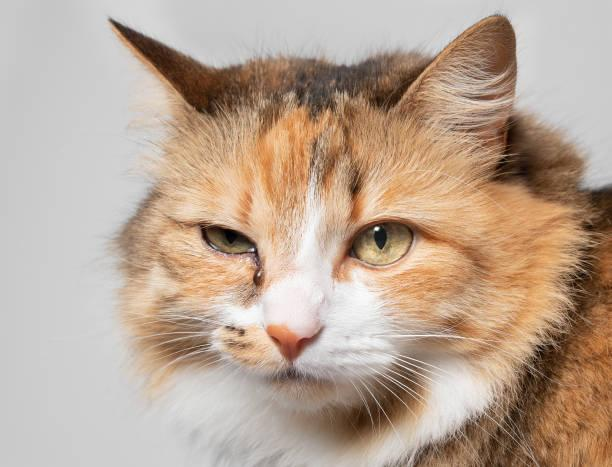eye_infection: (207, 220, 266, 284)
